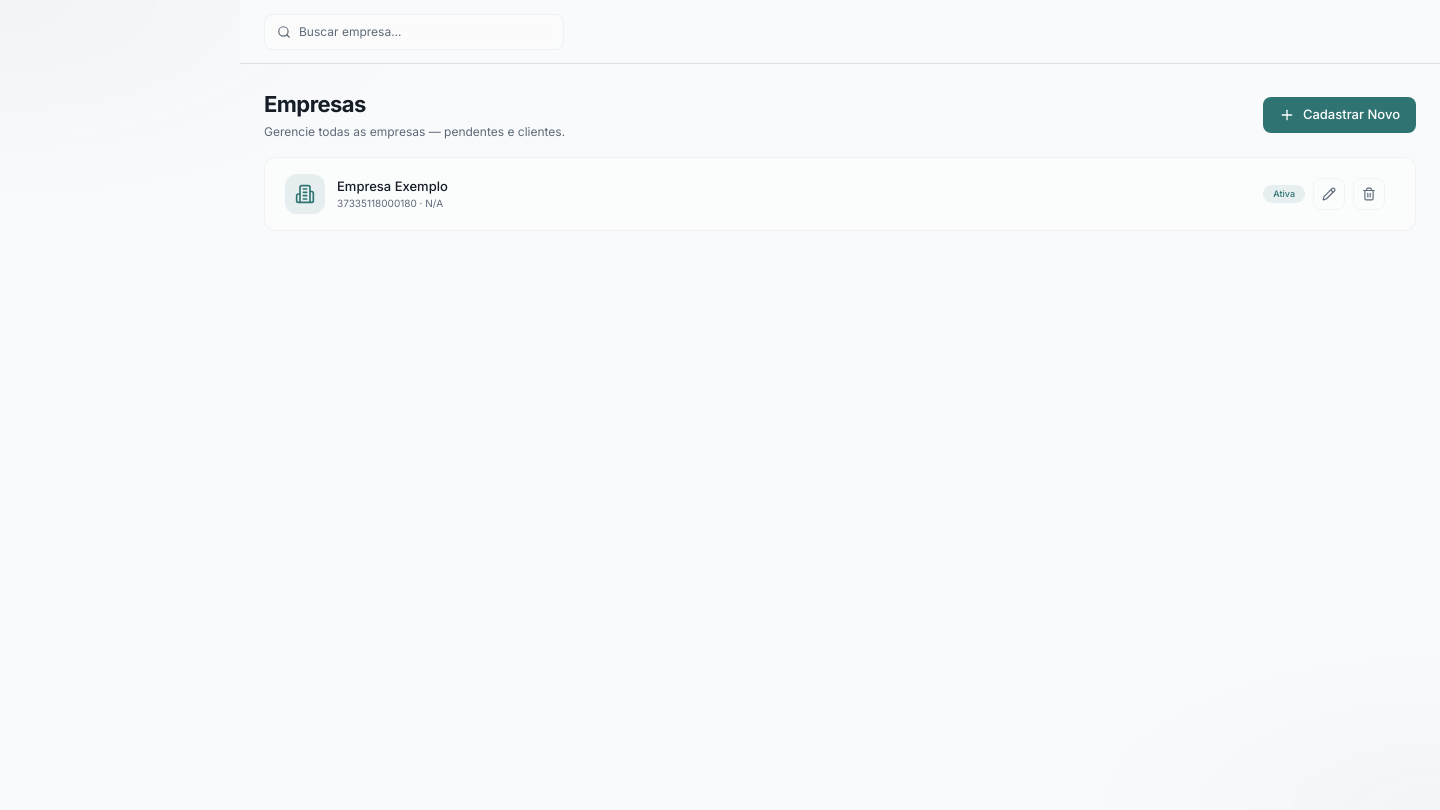
Scenario: detalhes da empresa › abre a empresa com dados cadastrais nulos em um cadastro antigo
Click the text "Empresa Exemplo": click(392, 187) [337, 177, 448, 196]
(page scrolled)
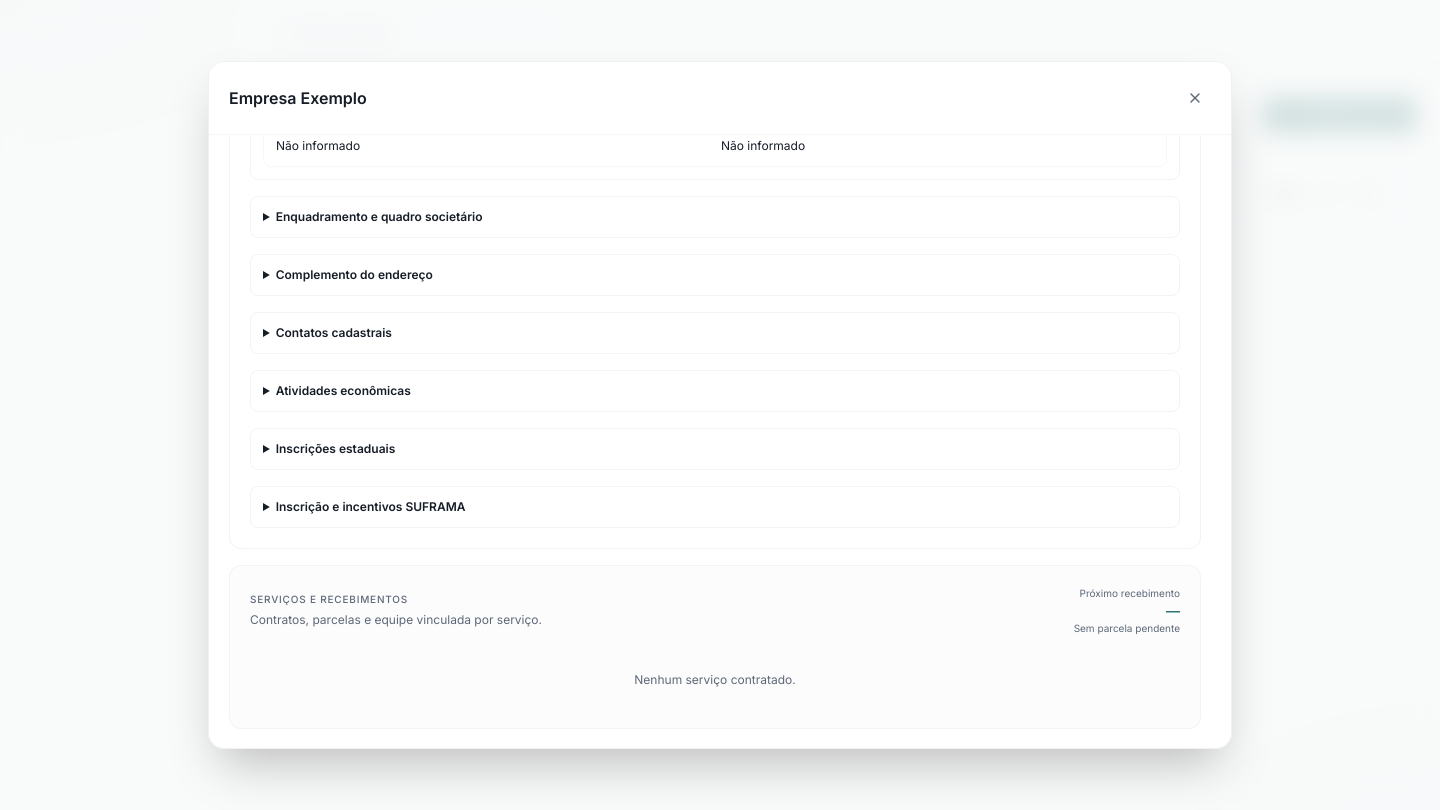
expect the heading "Empresa Exemplo" is shown: met, box [229, 86, 367, 110]
expect the text "Nenhum serviço contratado." is shown: met, box [634, 672, 796, 687]
